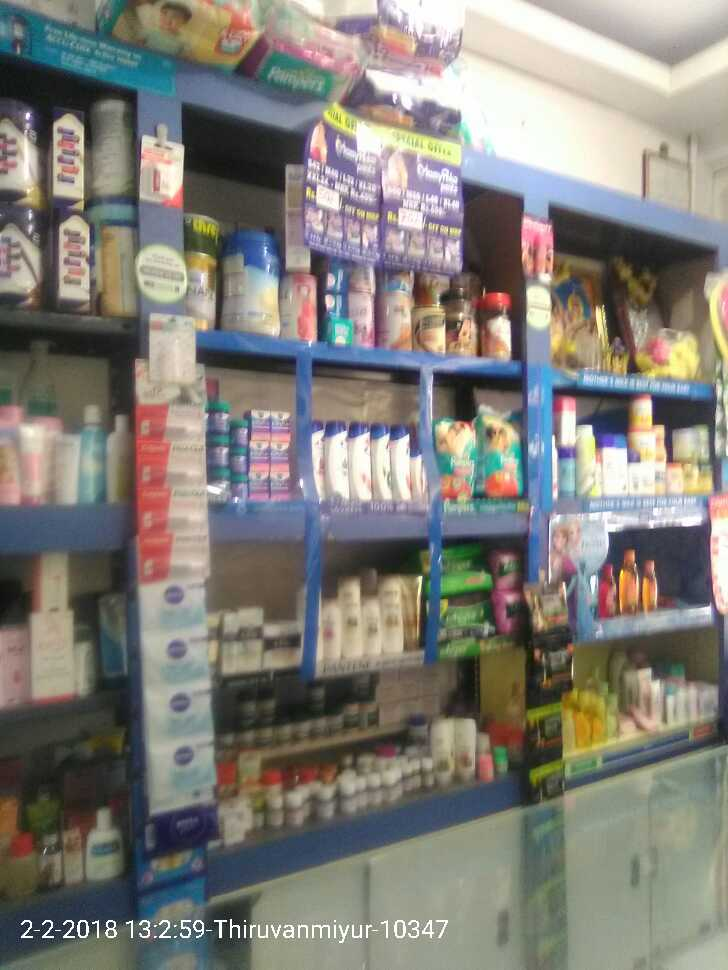vicks: (205, 387, 299, 504)
